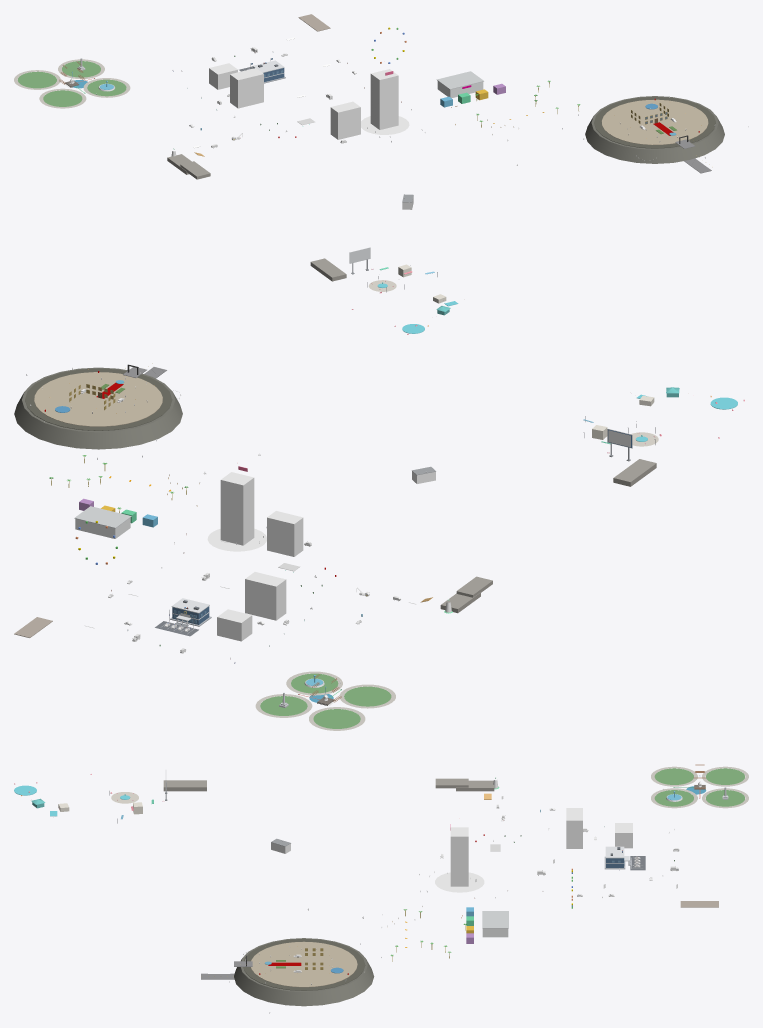
The model's file is pack_1.glb.
3 views of the same model, one above another, from view 1: azimuth 30°, elevation 25°; view 2: azimuth 150°, elevation 25°; view 3: azimuth 270°, elevation 25° (orthographic). The views are drawn at different scales.
Visible parts, largest first — view 1: pack_1.glb; view 2: pack_1.glb; view 3: pack_1.glb.
Part boxes in pixels (x1,y1,x2,y2): pack_1.glb: (14,14,748,334); pack_1.glb: (14,363,744,730); pack_1.glb: (14,764,748,1013).
Bounding box in the file's own units: 465 × 56.62 × 575.
